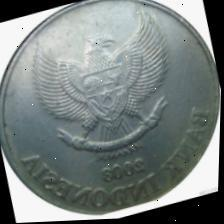coin_500_e2003: (3, 4, 220, 213)
